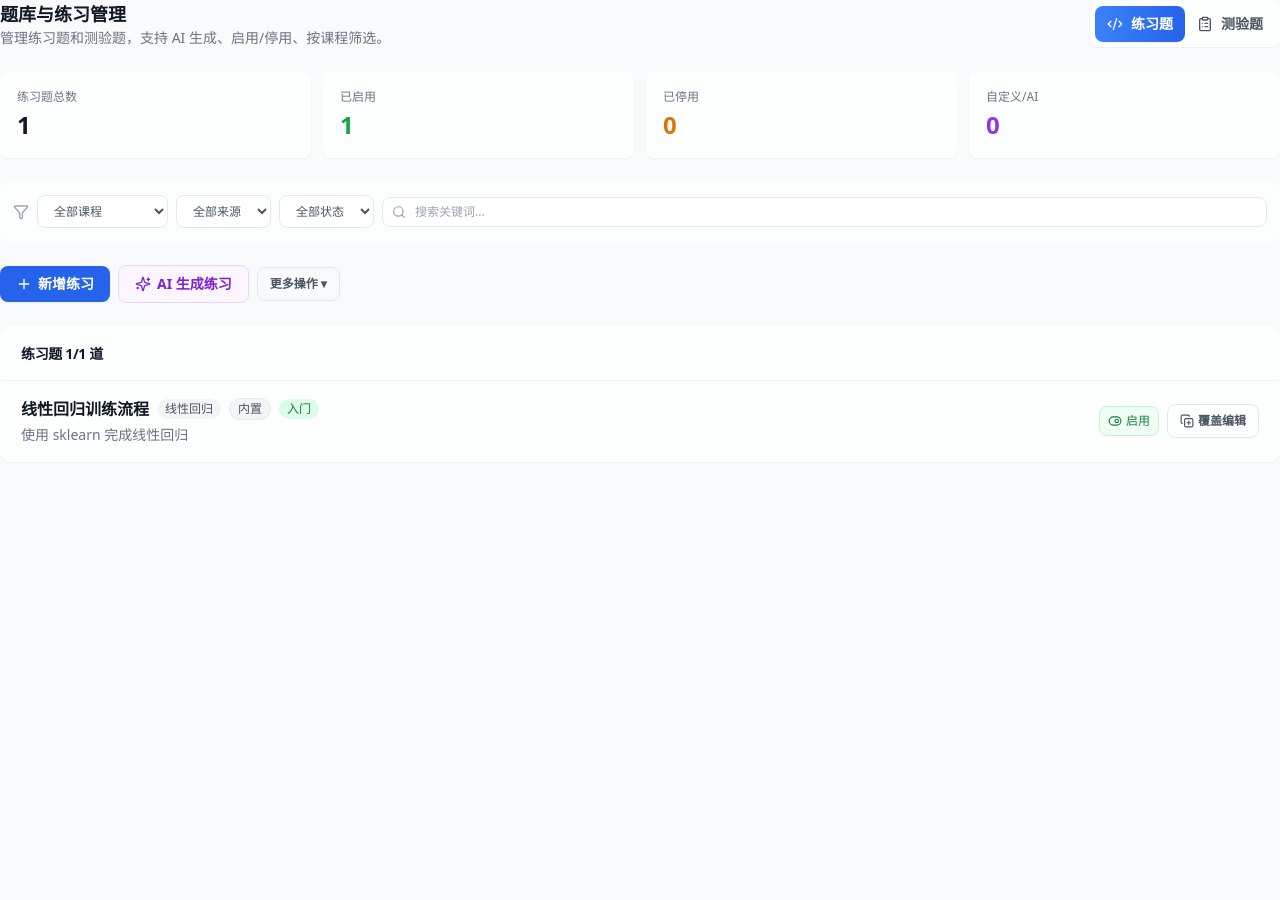
Test: AdminQuestionPanel › 题目预览 › 测验题可预览并关闭
The image size is (1280, 900).
Click the button "测验题". click: point(1230, 24)
box: x1=1185 y1=6 x2=1275 y2=42
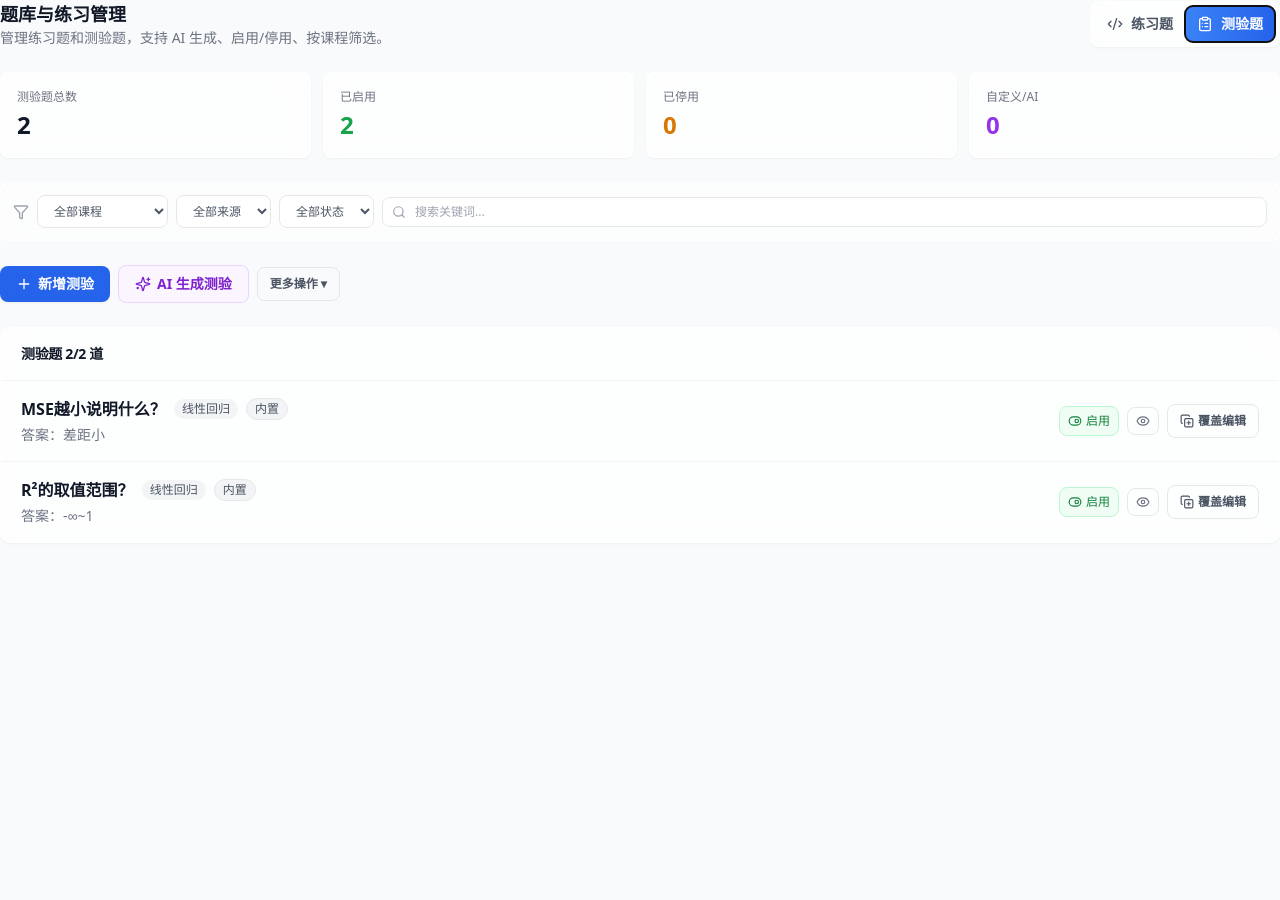
Expected: the text "MSE越小说明什么？" is shown, x1=21 y1=397 x2=166 y2=421
Expected: the button titled "预览题目" in the row of "MSE越小说明什么？" is shown
Click the button titled "预览题目" in the row of "MSE越小说明什么？". click: point(1143, 421)
box: x1=1127 y1=407 x2=1159 y2=435
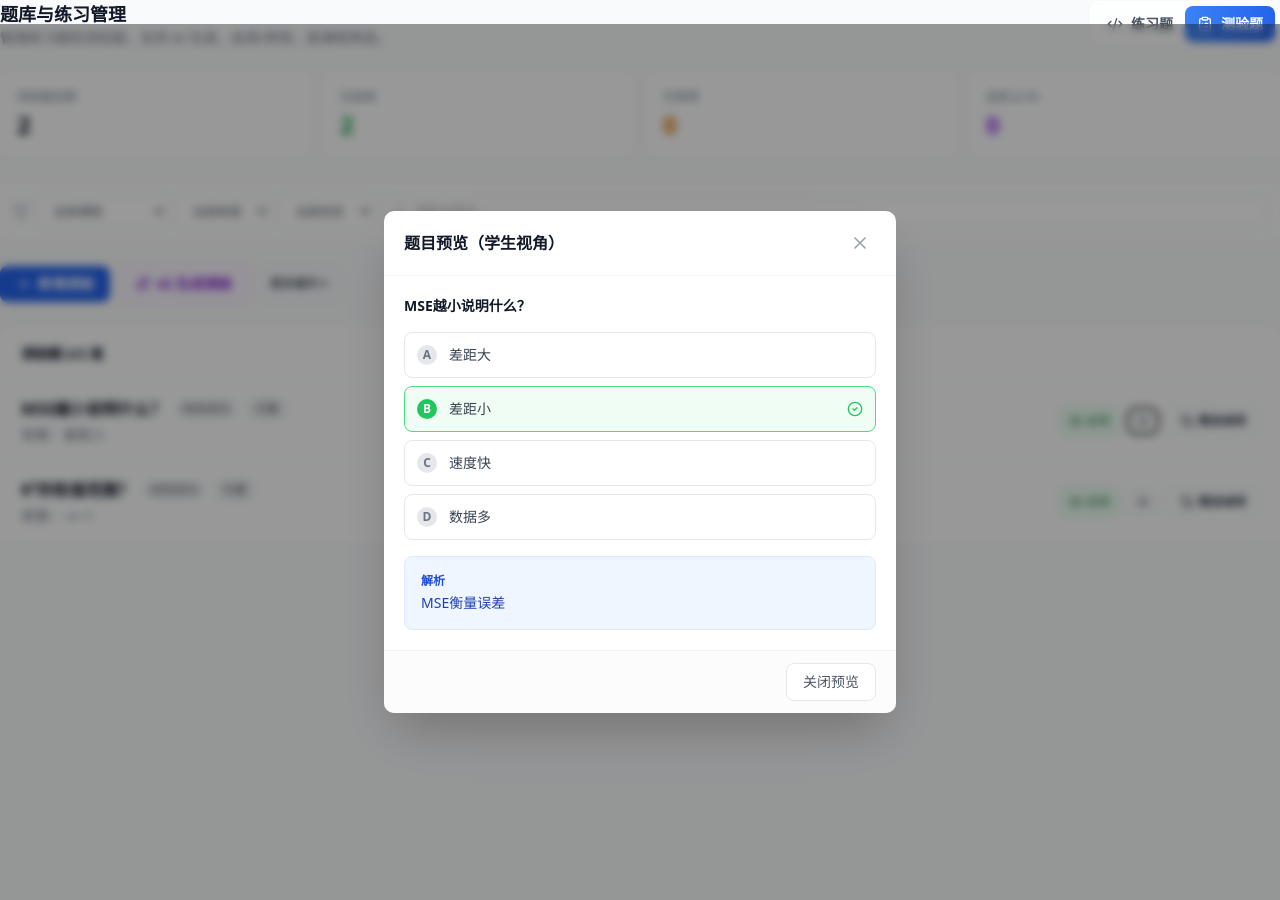
Expected: the heading "题目预览（学生视角）" is shown, x1=404 y1=231 x2=564 y2=255
Expected: the button "关闭预览" is shown
Click the button "关闭预览". click: point(831, 682)
box: x1=786 y1=663 x2=876 y2=701
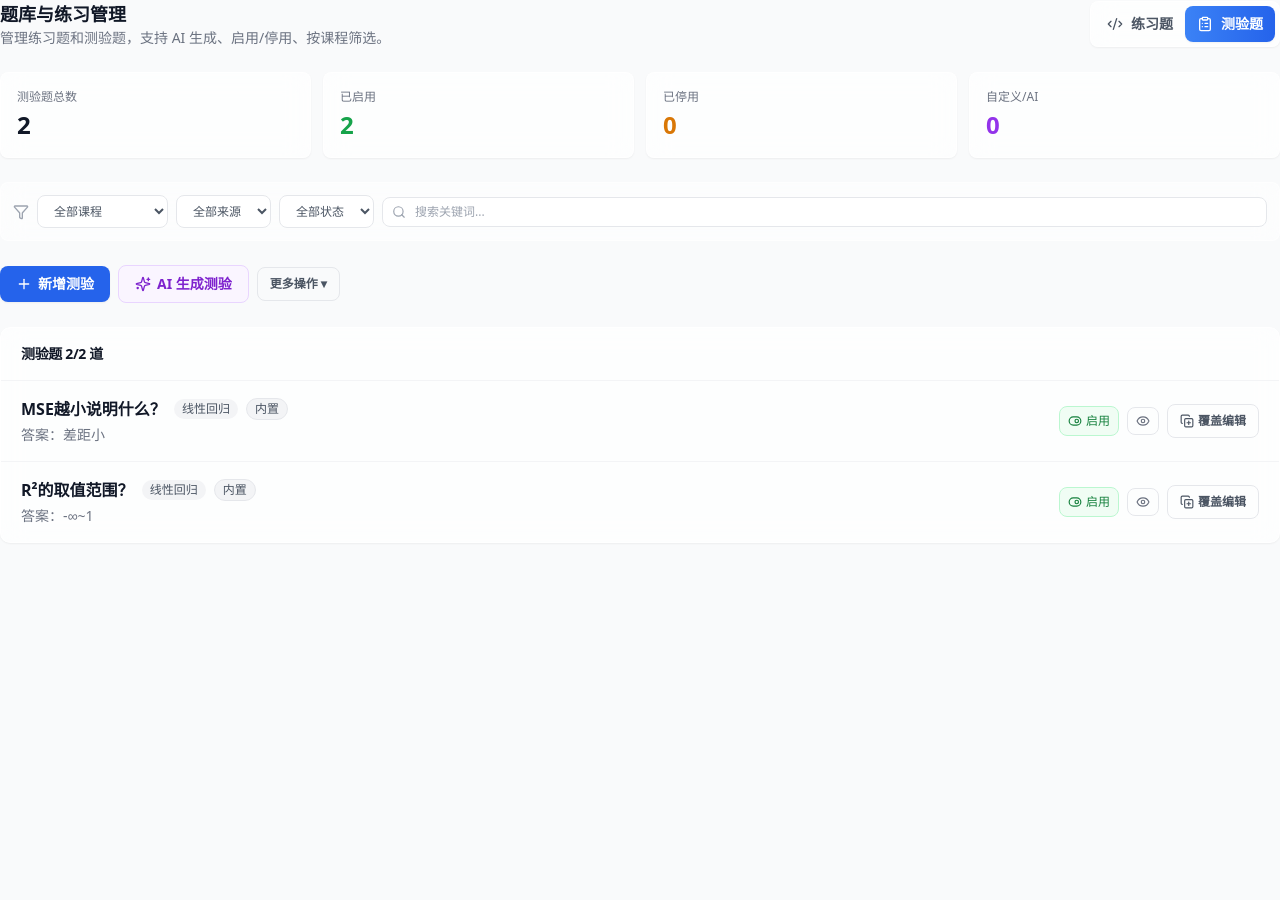
Expected: the heading "题目预览（学生视角）" is gone
